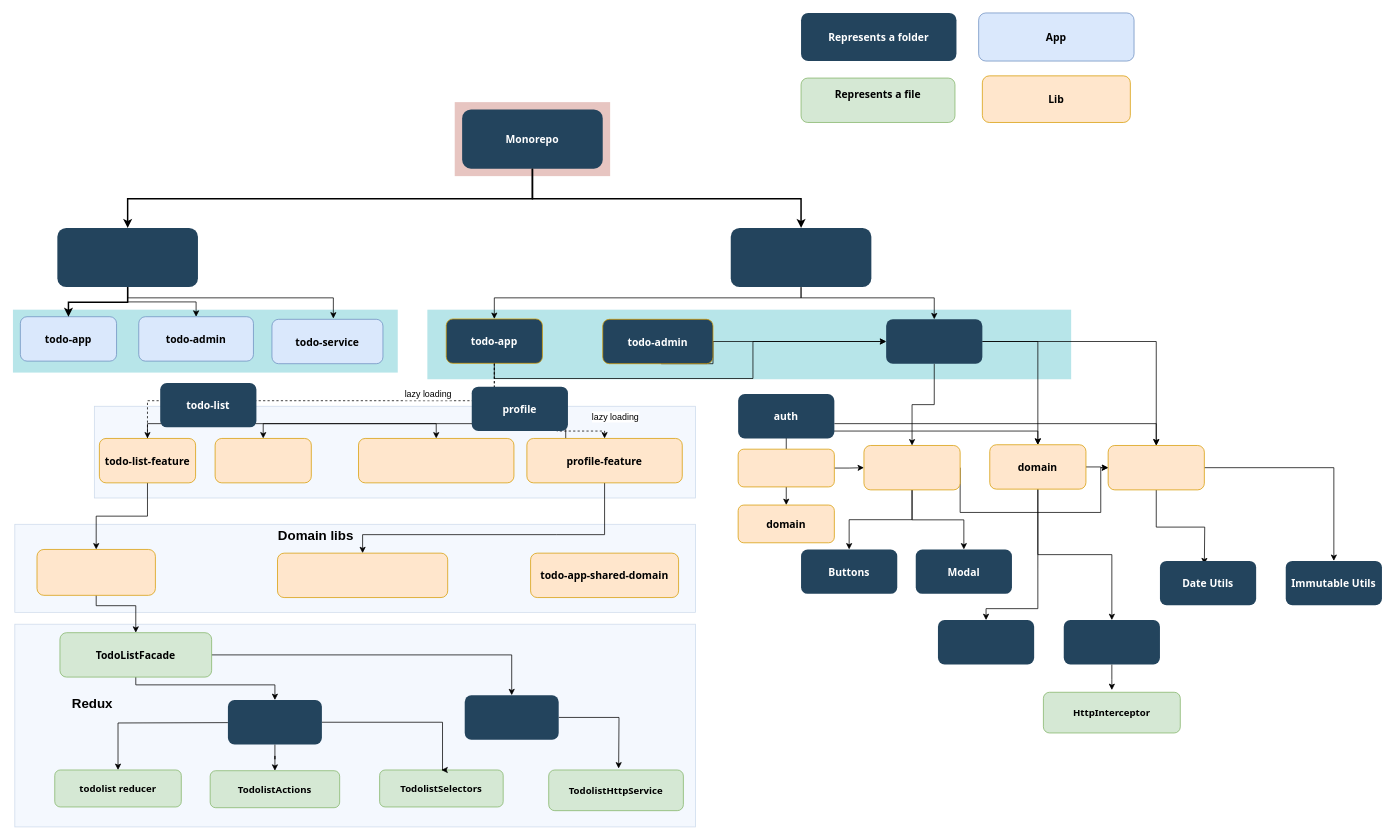
Image size: 1394x840. Some labels were removed from this diagram. Here are the shapes that lost their labels. From the top down, the box of each, then its label:
(57, 228, 198, 287): Apps
(730, 228, 871, 287): Libs
(886, 319, 982, 363): Shared
(214, 438, 311, 483): todo-list-api
(358, 438, 514, 483): profile-api
(737, 448, 834, 487): feature
(863, 445, 960, 490): ui
(1107, 445, 1204, 490): util
(36, 549, 155, 595): domain-todo-list
(277, 552, 448, 598): profile-domain
(938, 620, 1034, 664): Store
(1063, 620, 1160, 664): Http Services
(228, 700, 322, 744): State
(464, 695, 558, 739): Resources
